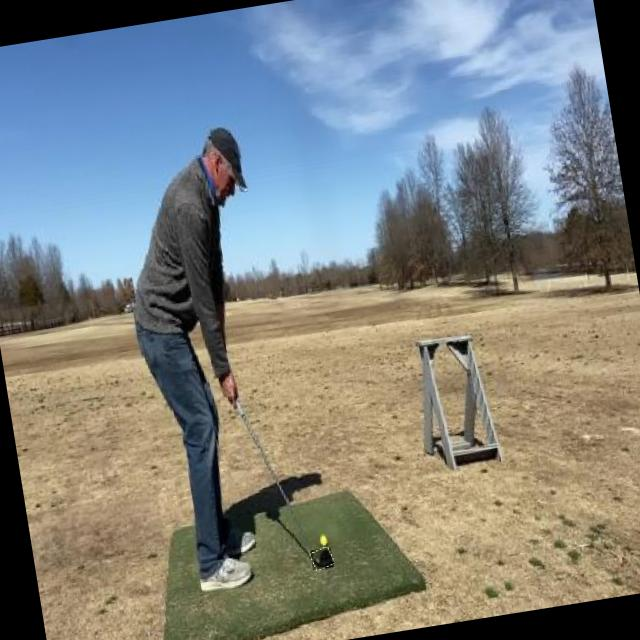club head: (310, 547, 334, 570)
